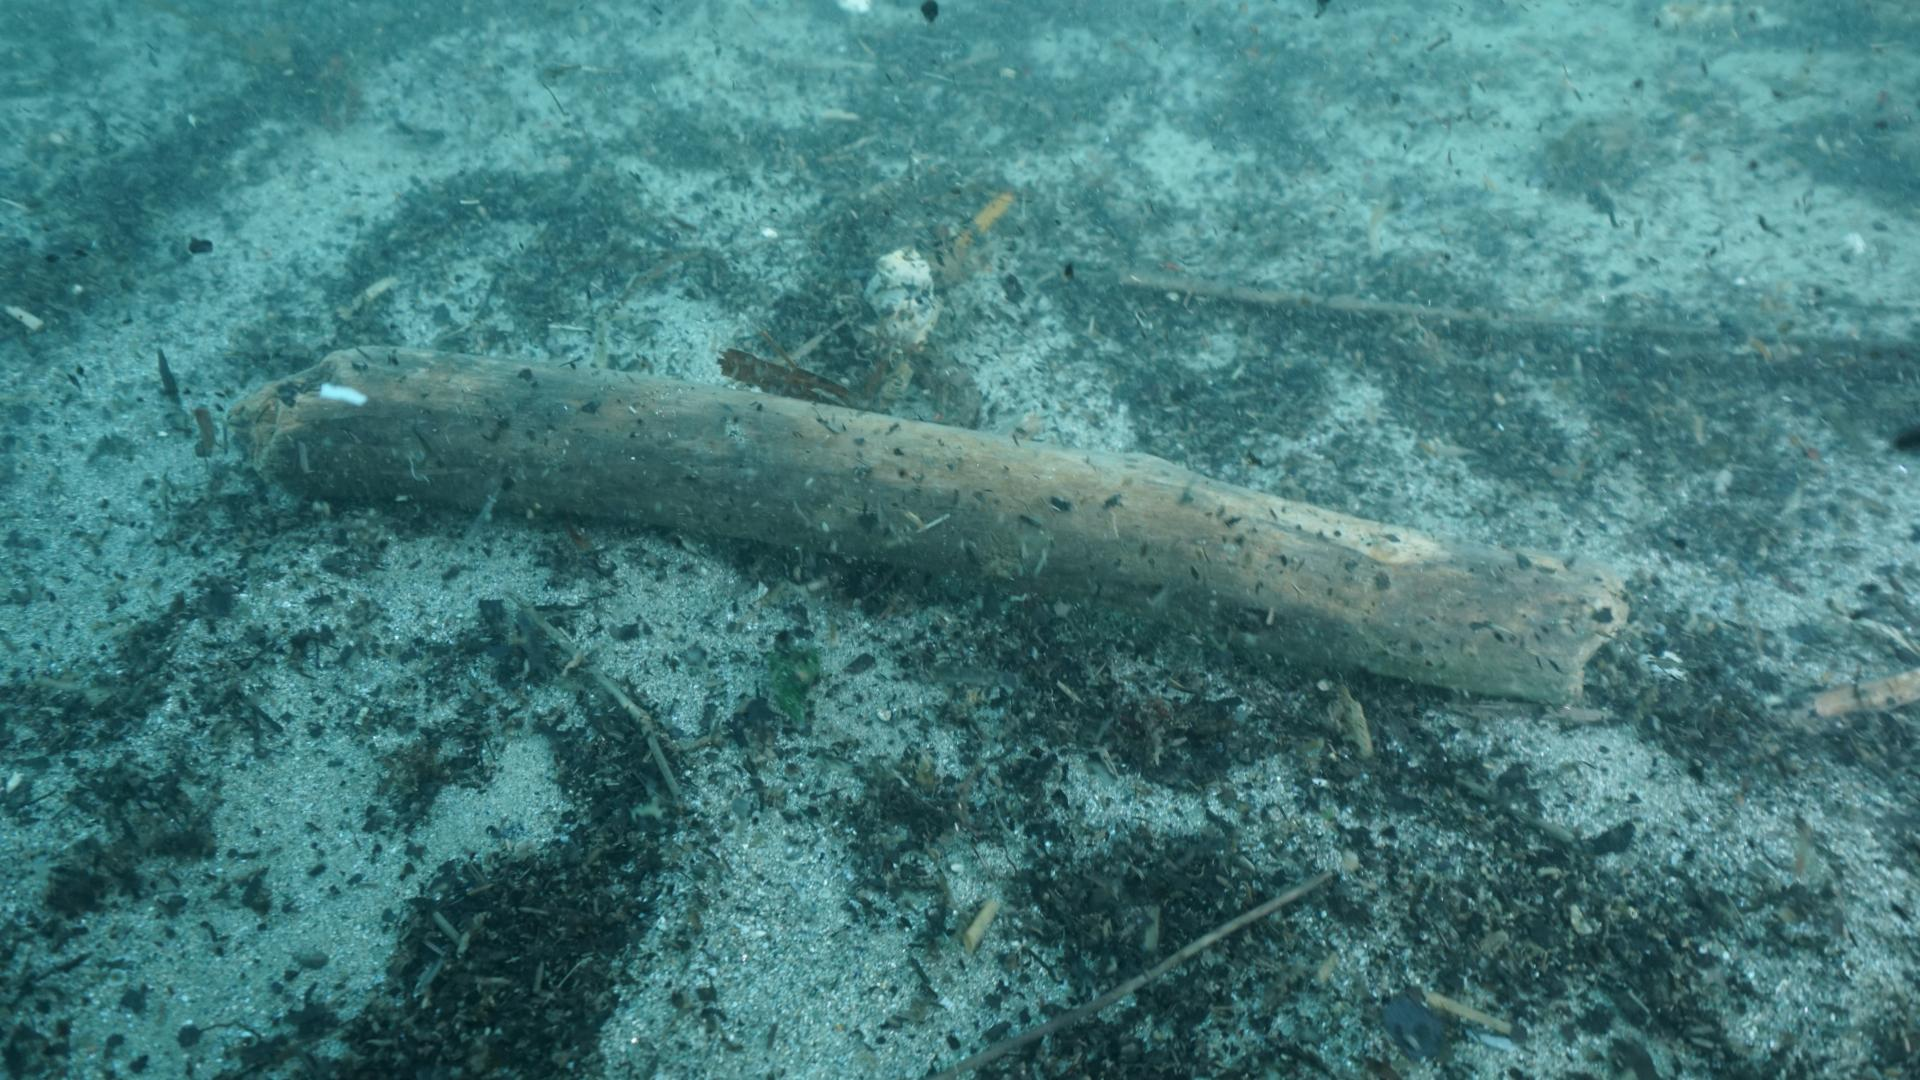wood: (214, 347, 1631, 702)
